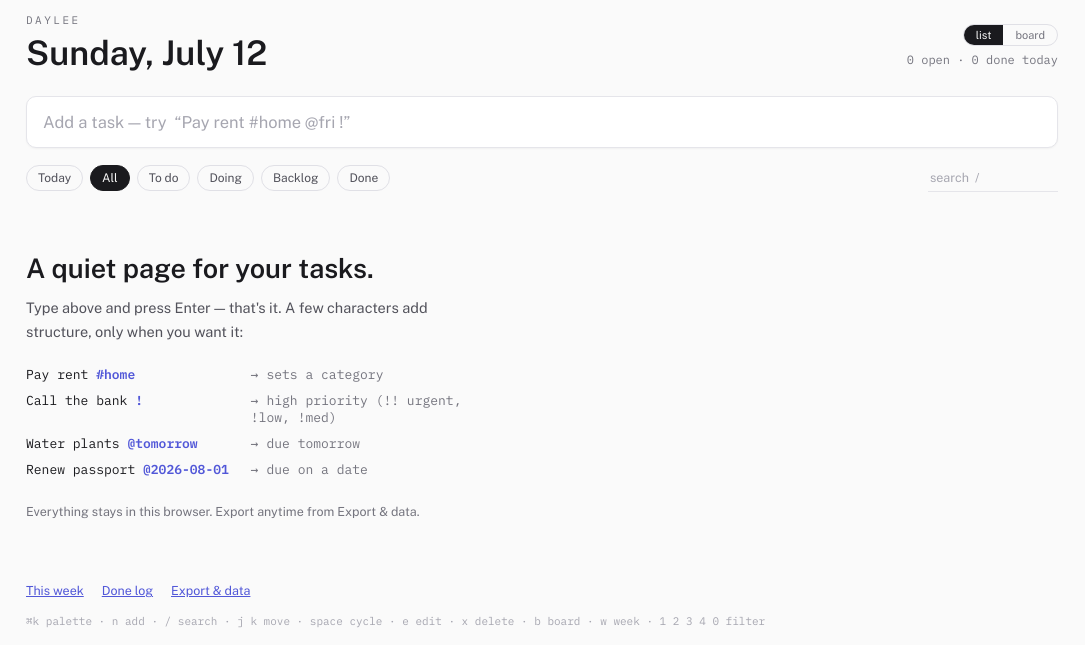
Test: edit › edits the title inline; Enter commits
Click the field labelled "Add a task" at (542, 122), box [26,96,1058,148]
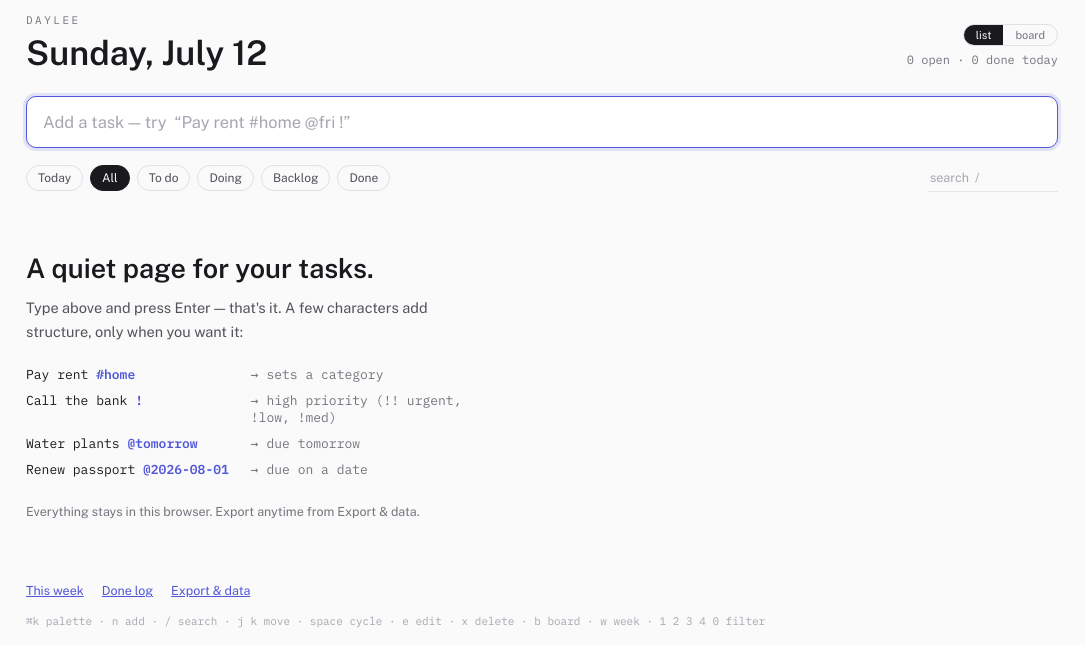
Type keys "Call bank{Enter}"
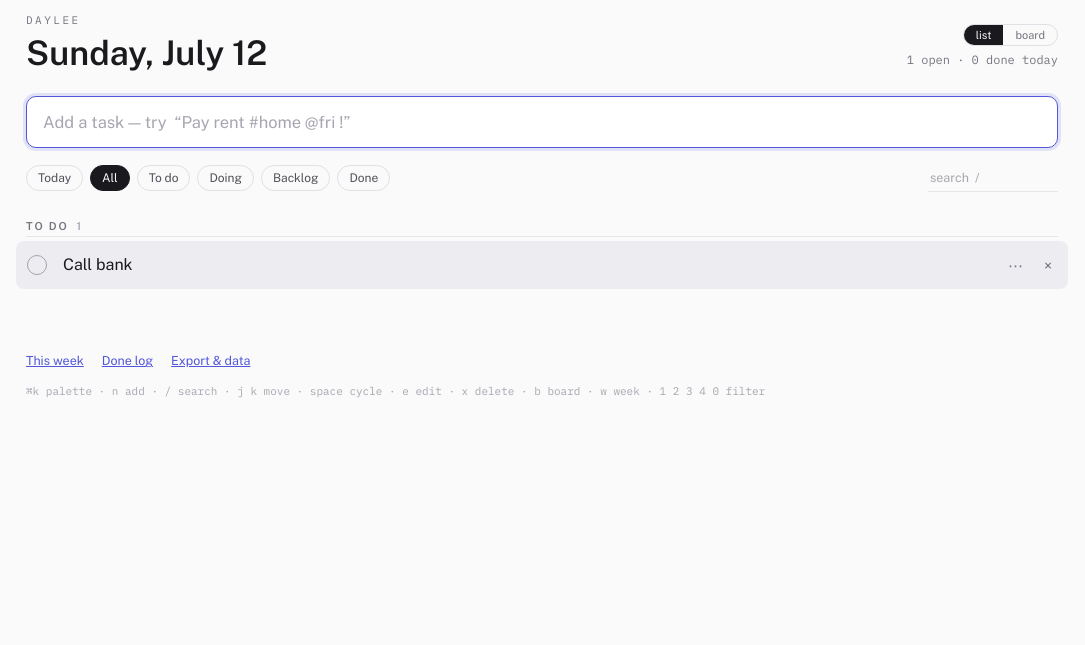
Click the text "Call bank" at (98, 265), box [63,255,133,274]
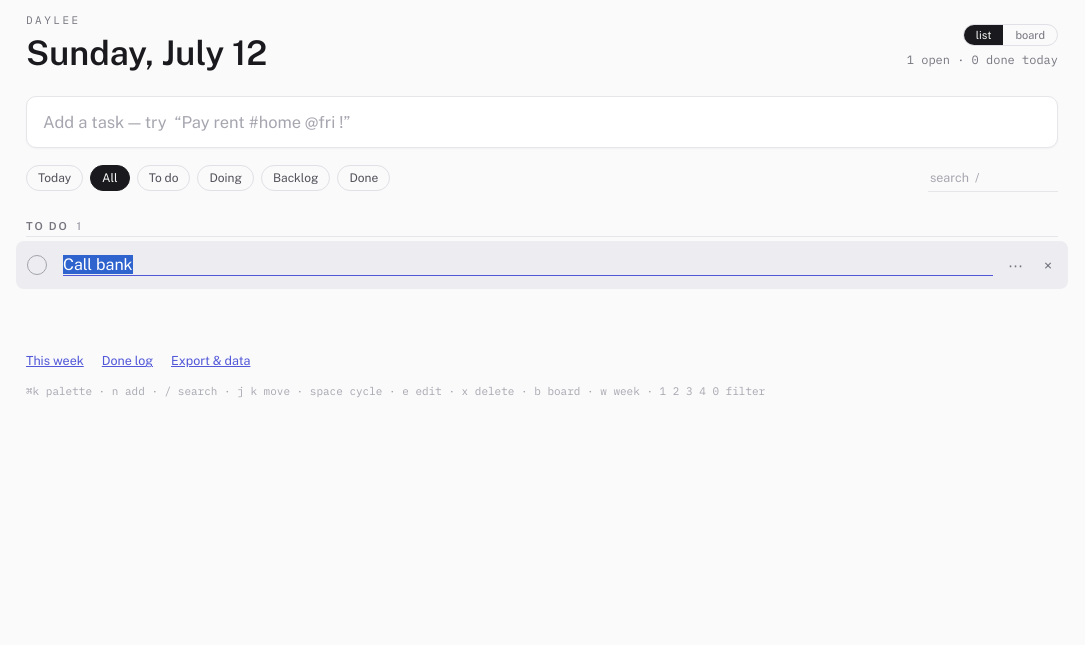
Replace the text in the field named "Edit task title" with "Call the bank" at (528, 265), box [63,254,993,276]
Then press Enter
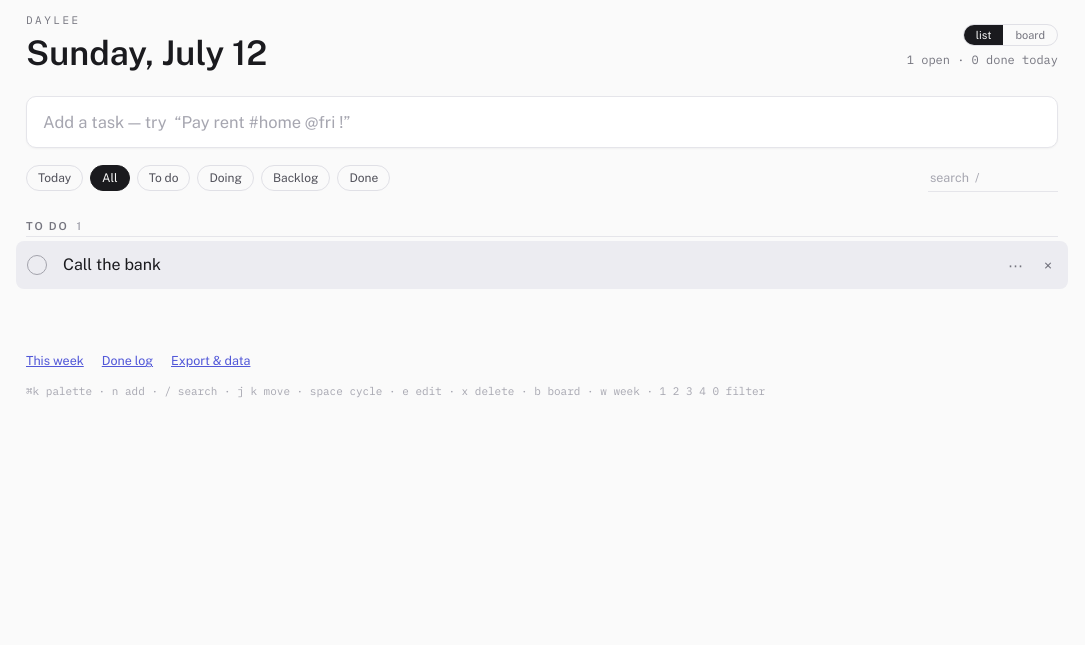
Result: the text "Call the bank" is shown at [63,255,161,274]
